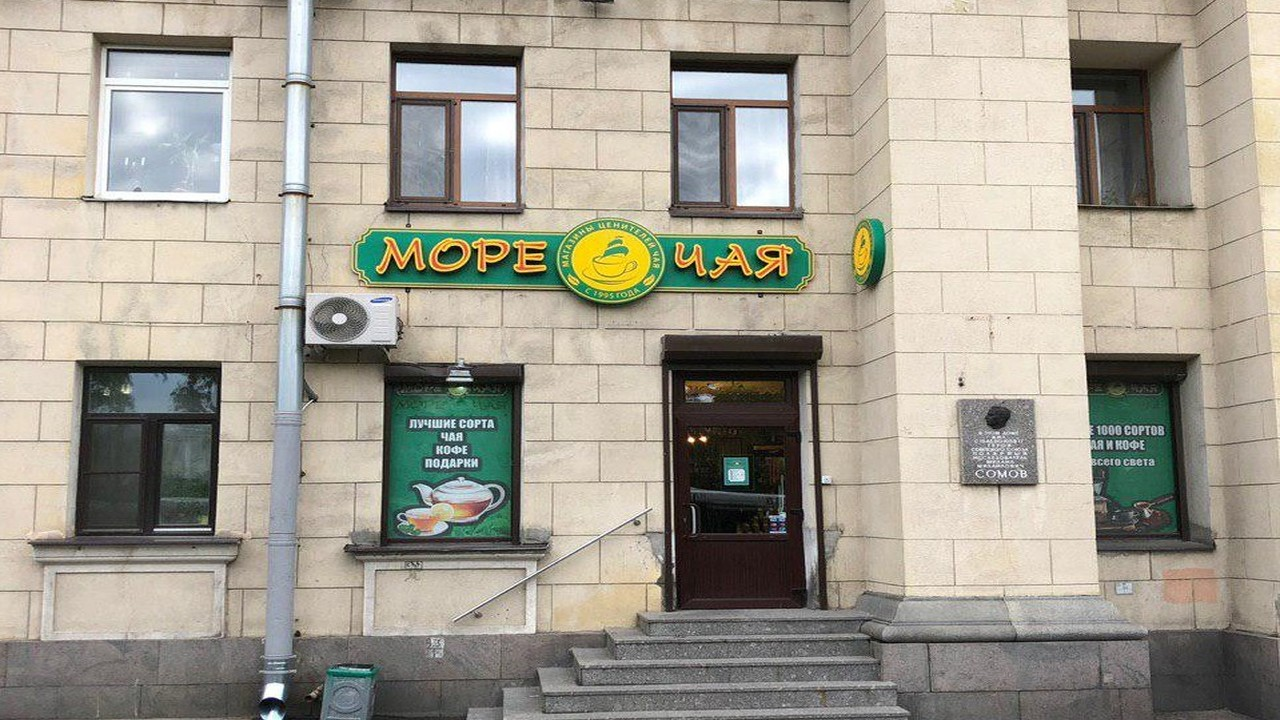door: (674, 372, 811, 609)
signboard: (353, 220, 814, 305)
window: (79, 364, 222, 536), (386, 367, 516, 547), (93, 46, 230, 201), (388, 52, 526, 203), (675, 64, 791, 211)
